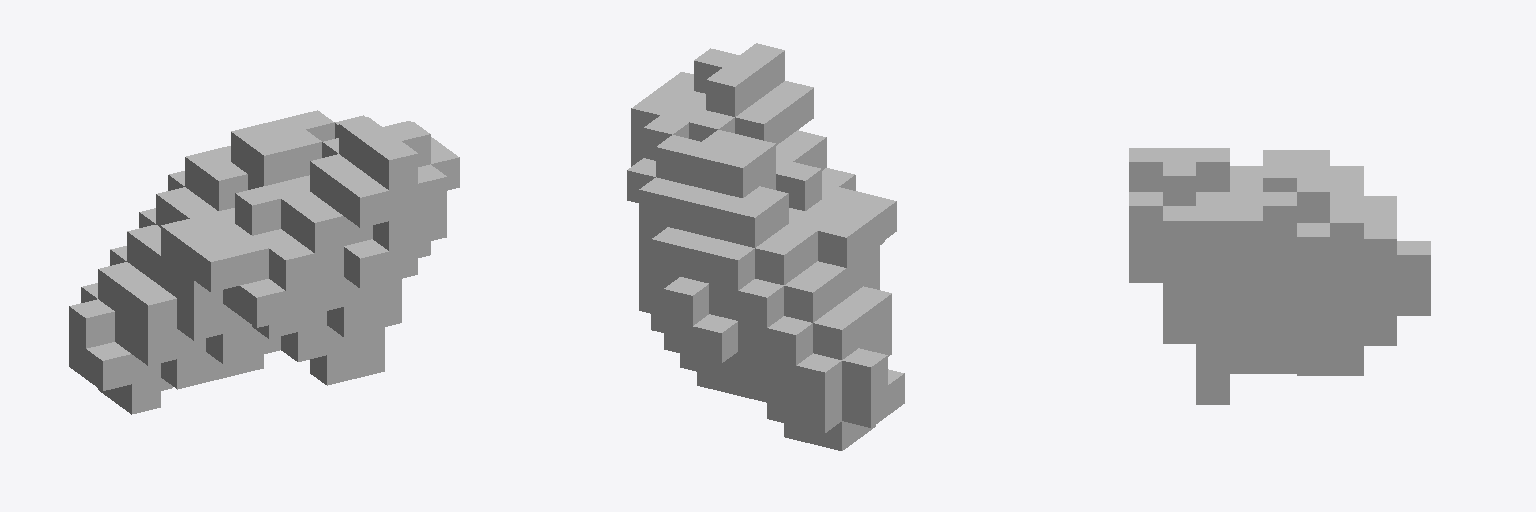
Rendered from a3empty.obj.
3 views of the same model, side by side, from view 1: azimuth 30°, elevation 25°; view 2: azimuth 150°, elevation 25°; view 3: azimuth 270°, elevation 25° (orthographic).
Parts seen in each view (by area): view 1: object 1; view 2: object 1; view 3: object 1.
Boxes of the visible parts, x1=… form: object 1: x1=69, y1=110, x2=459, y2=414; object 1: x1=627, y1=43, x2=904, y2=450; object 1: x1=1129, y1=148, x2=1430, y2=404.
Size of the model in its own units: 1 by 0.9 by 0.9.